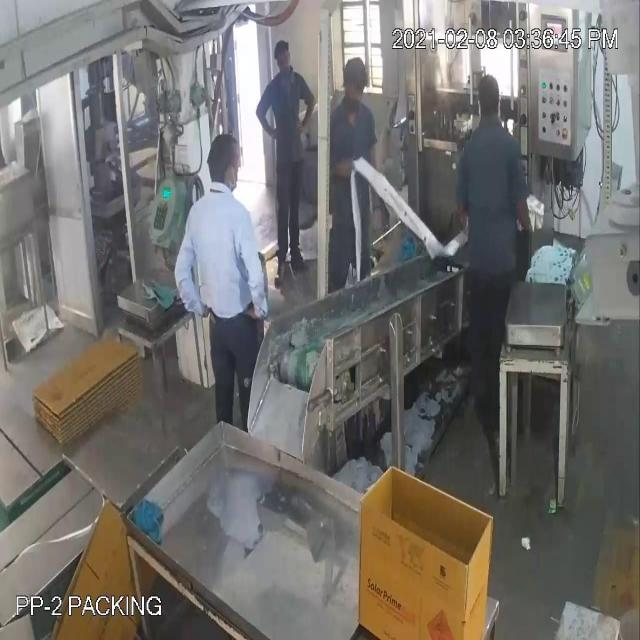No_Gloves: (22, 52, 305, 280)
